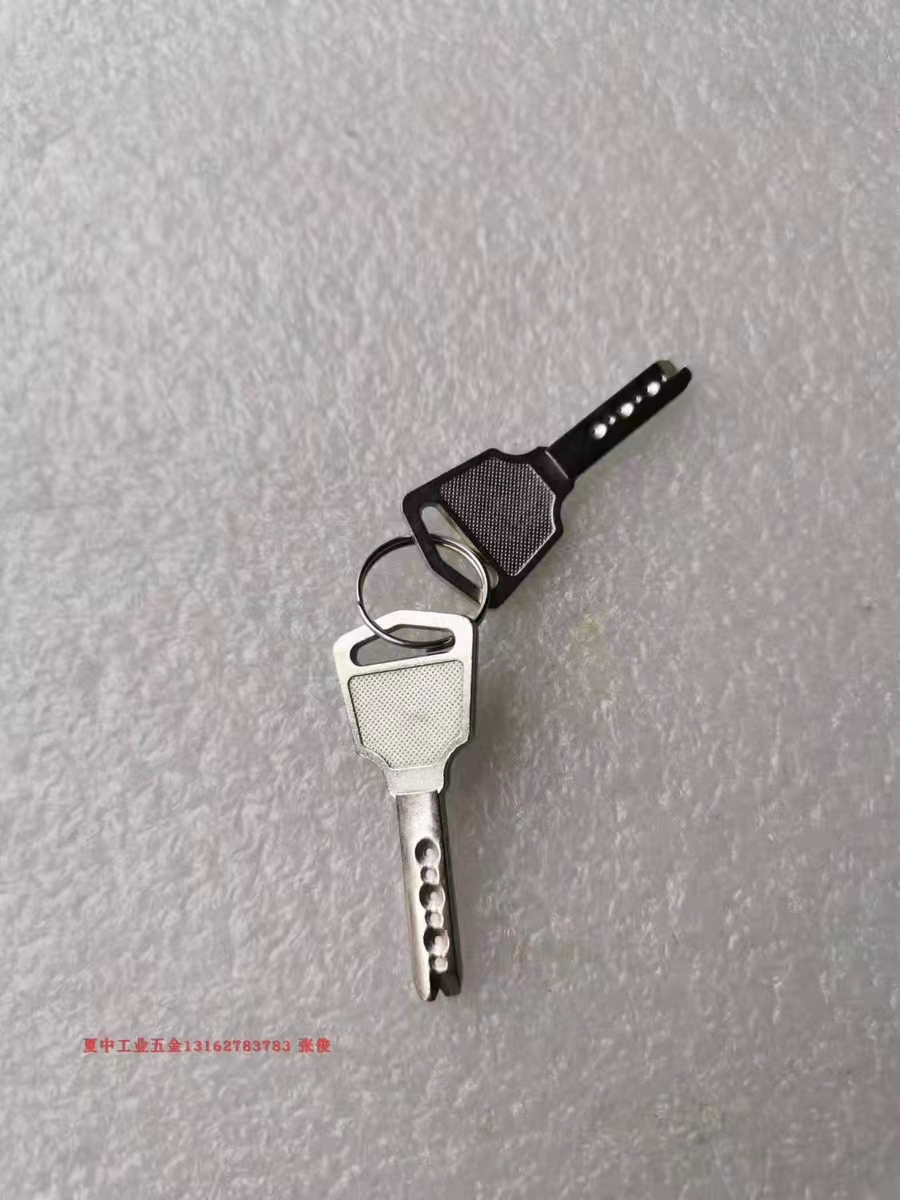key: (401, 353, 695, 609), (331, 600, 497, 1007)
